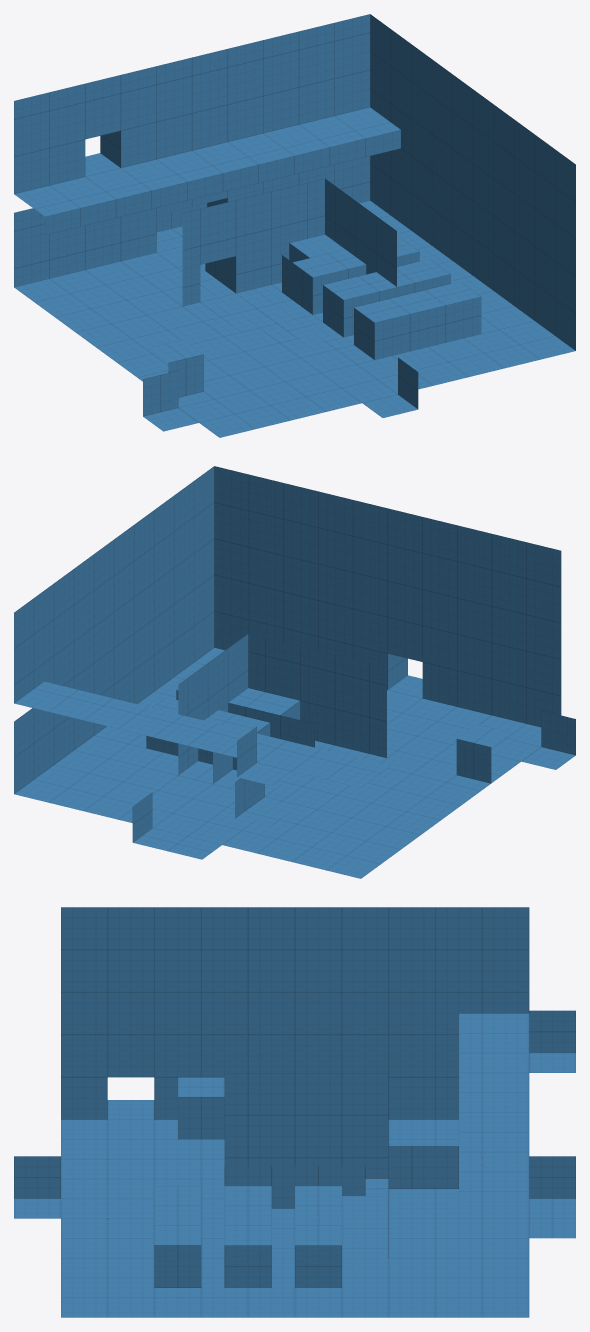
The model's file is map.gltf.
The picture shows the model from 3 angles, top to bottom: view 1: azimuth 30°, elevation 25°; view 2: azimuth 150°, elevation 25°; view 3: azimuth 270°, elevation 25°; orthographic projection. The views are drawn at different scales.
Parts seen in each view (by area): view 1: room_2, room_1, room_T, room_L; view 2: room_2, room_1, room_L; view 3: room_2, room_1, room_L, room_T.
Part boxes in pixels (x1=…): room_2: x1=14, y1=14, x2=575, y2=437; room_1: x1=170, y1=178, x2=396, y2=345; room_T: x1=288, y1=285, x2=343, y2=340; room_L: x1=248, y1=255, x2=316, y2=330; room_2: x1=14, y1=466, x2=575, y2=878; room_1: x1=178, y1=633, x2=386, y2=827; room_L: x1=245, y1=707, x2=314, y2=789; room_2: x1=14, y1=907, x2=575, y2=1317; room_1: x1=224, y1=1073, x2=458, y2=1258; room_L: x1=271, y1=1166, x2=365, y2=1208; room_T: x1=224, y1=1166, x2=271, y2=1185.
Size of the model in its own units: 22 by 10 by 24.
Materials: 1 (1 with a texture image).
